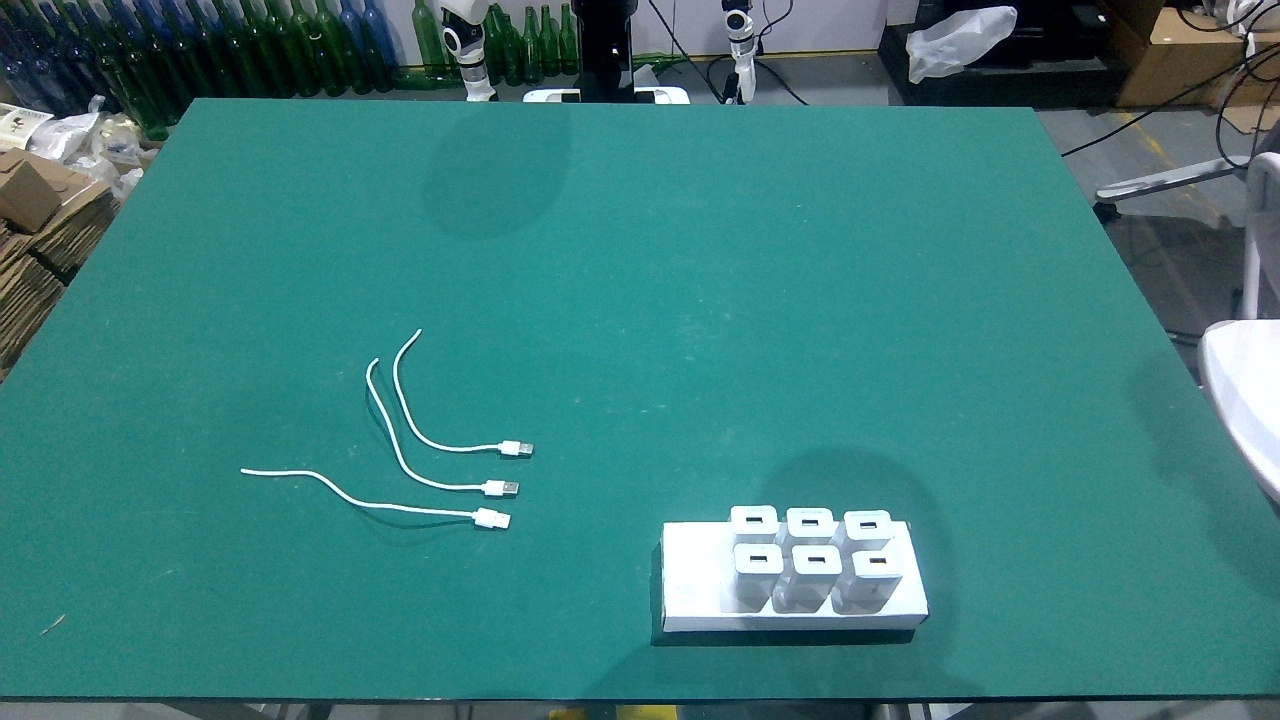usb_a_port: (747, 554, 773, 566), (867, 554, 890, 567), (855, 520, 882, 531), (800, 516, 821, 529), (805, 554, 829, 565), (744, 515, 764, 525)
